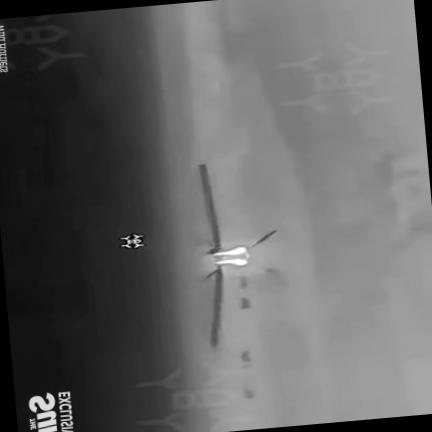Shahed: (199, 164, 276, 347)
